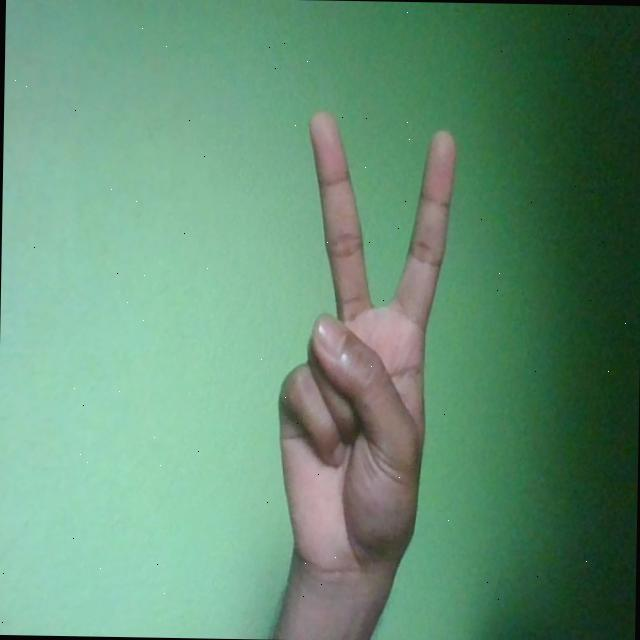Fist: (274, 109, 456, 586)
